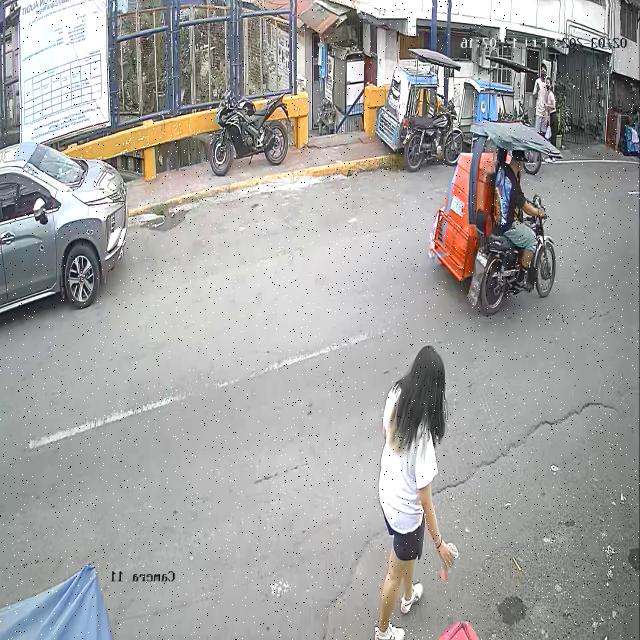garbage_dumping: (440, 529, 458, 589)
